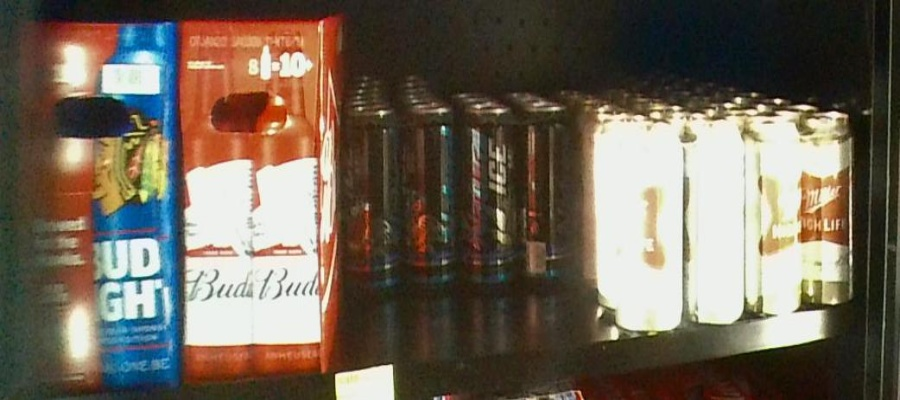bottle: (1, 20, 181, 390), (180, 20, 343, 368), (616, 130, 746, 328), (349, 110, 455, 295), (461, 103, 570, 282), (746, 126, 852, 308)
